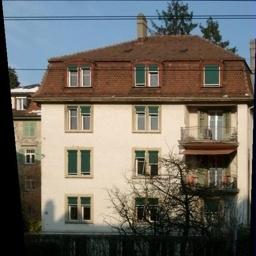building: (30, 9, 256, 250)
